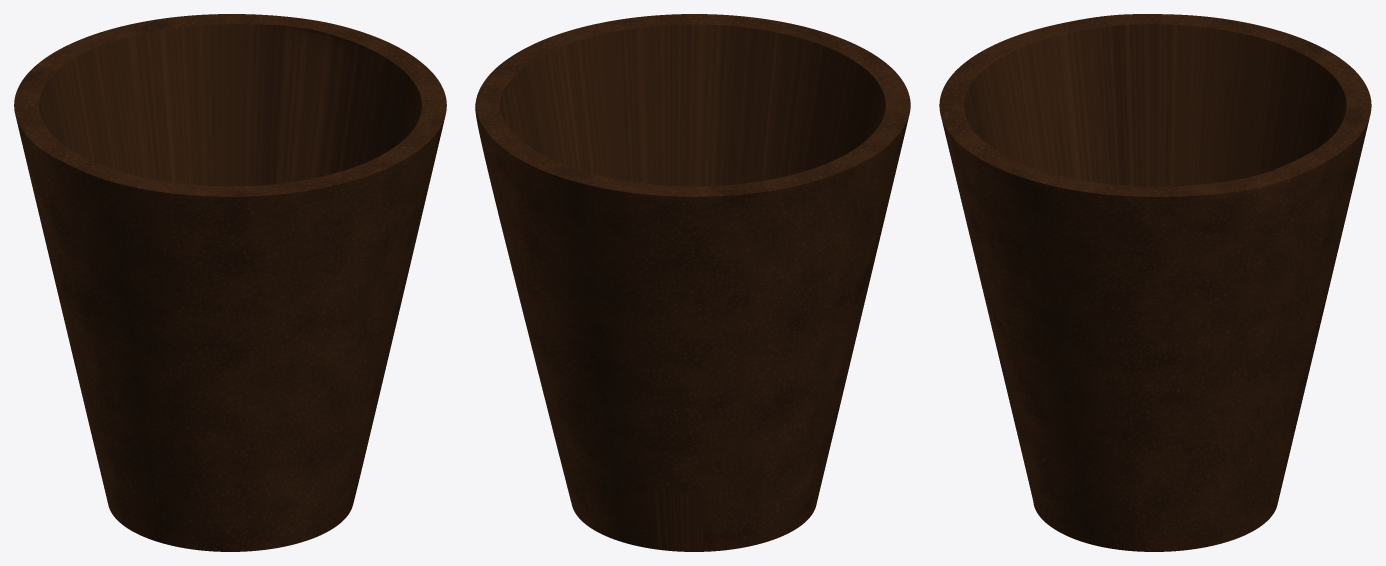
Rendered from LeatherCup.fbx.
The picture shows the model from 3 angles, left to right: view 1: azimuth 30°, elevation 25°; view 2: azimuth 150°, elevation 25°; view 3: azimuth 270°, elevation 25°; orthographic projection.
Visible parts, largest first — view 1: Zylinder; view 2: Zylinder; view 3: Zylinder.
Boxes of the visible parts, <box> form: Zylinder: <box>14,14,446,551</box>; Zylinder: <box>475,14,910,551</box>; Zylinder: <box>939,14,1371,551</box>.
Bounding box in the file's own units: 199 × 201 × 199.
